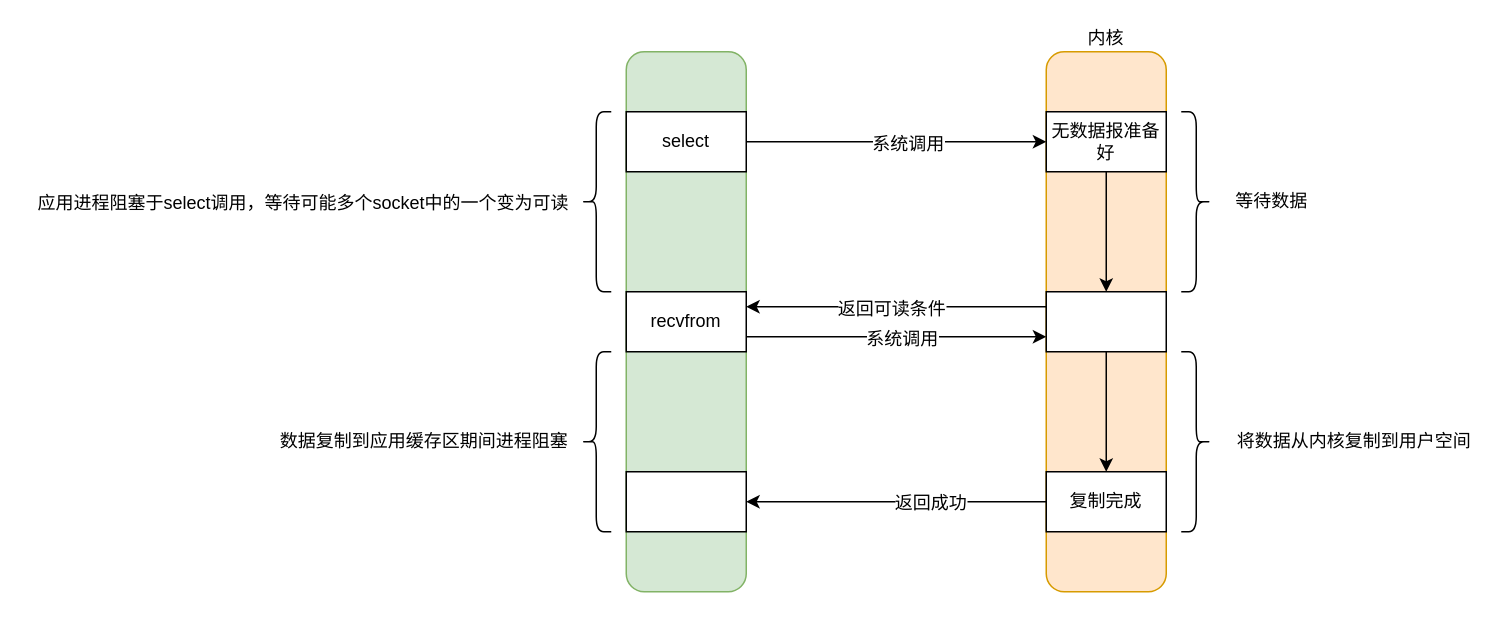
Some shapes in this 1506 by 618 pixel diagram are drawn without their labels. The shapes that lost their labels are listed below. From the top down, each one's box as (x1, y1, x2, y2) in pixels, then its label:
(625, 50, 746, 592): 应用进程
(1045, 290, 1166, 352): 数据报准备好/复制数据报
(625, 470, 746, 532): 处理数据报
